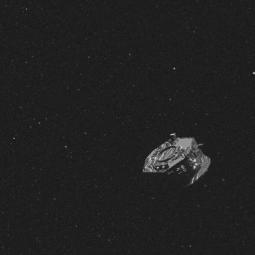lisa_pathfinder: (134, 126, 221, 194)
